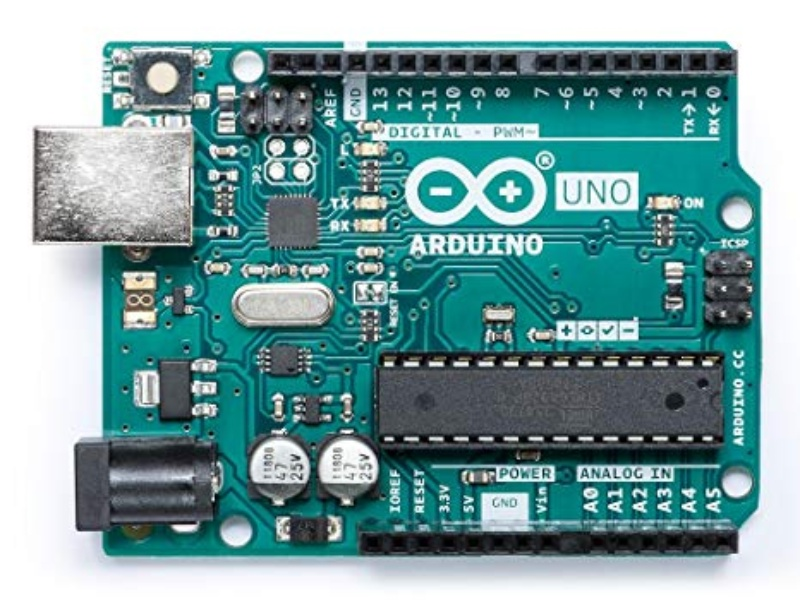uno: (19, 24, 784, 562)
